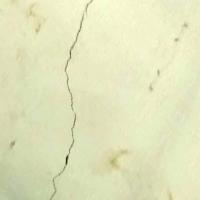crack: (44, 0, 107, 199)
